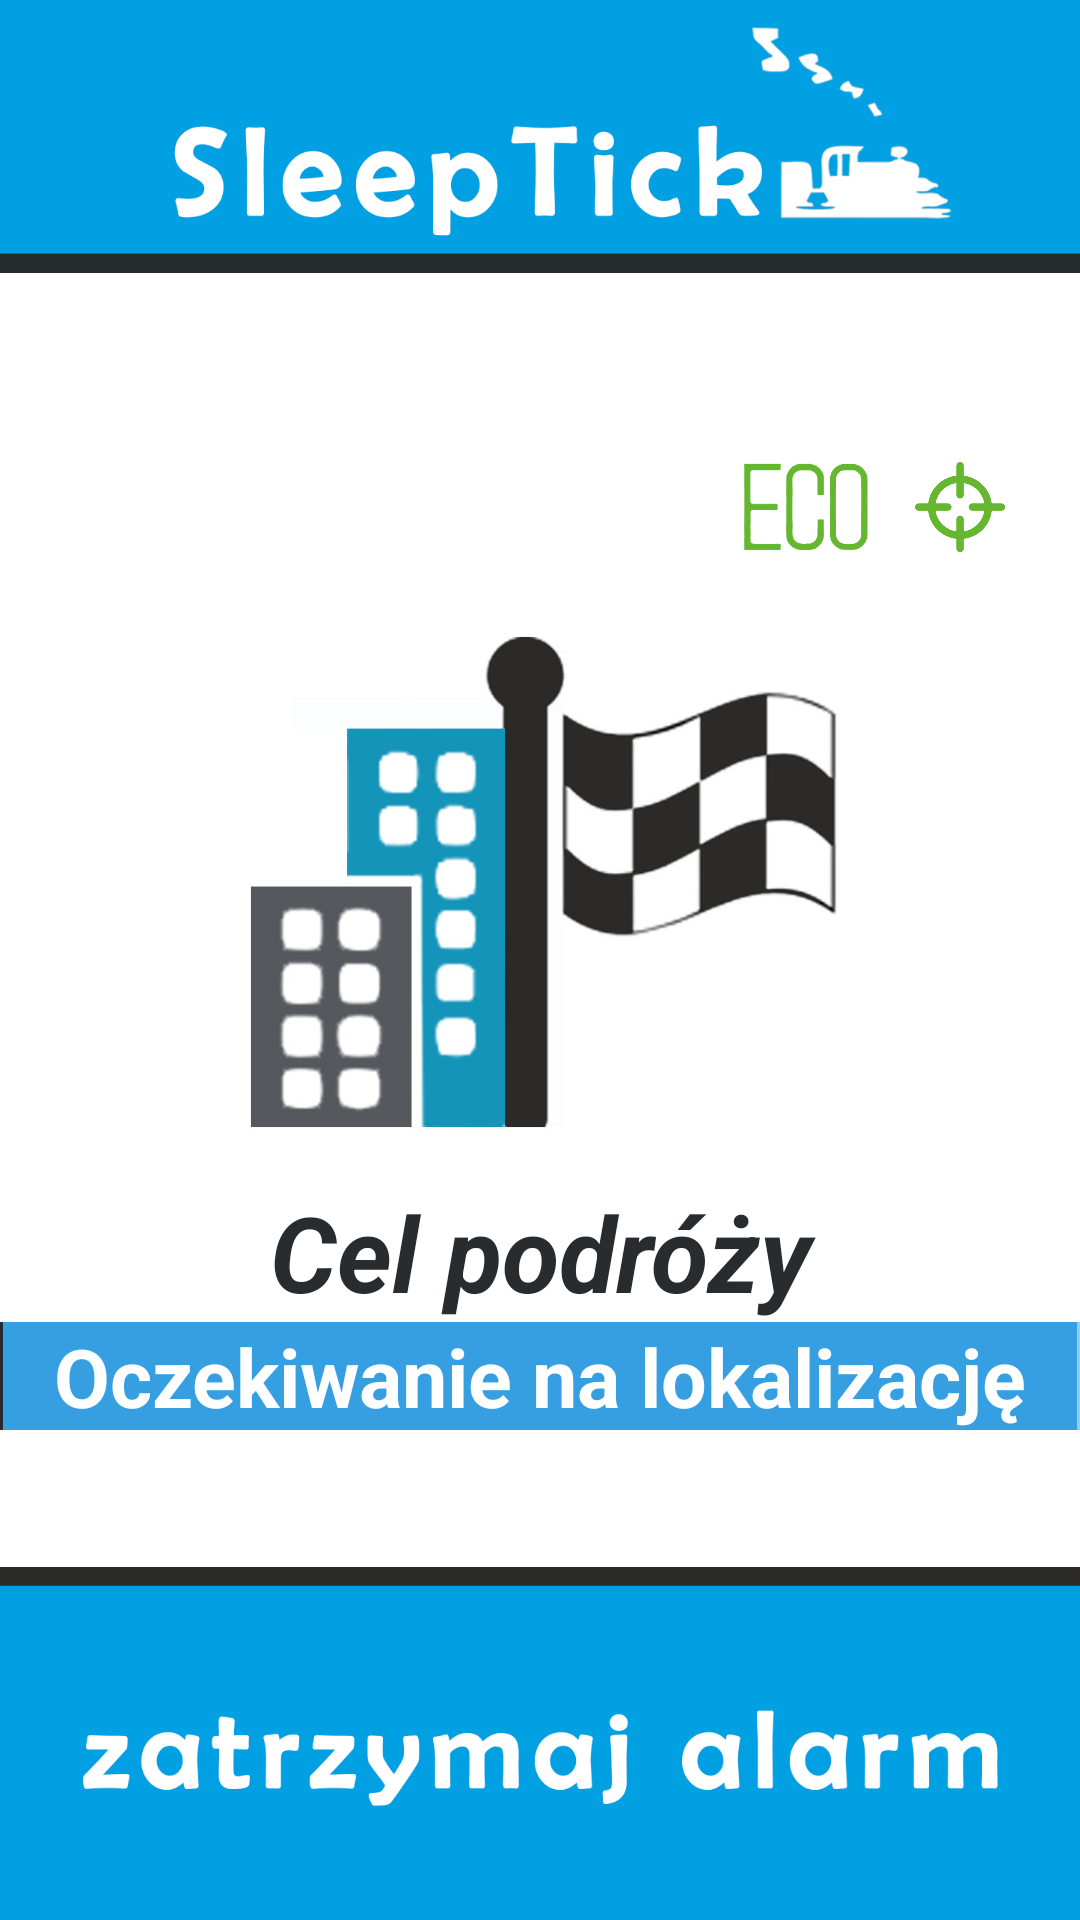

Screen size 1080 x 1920. Icon name, then its box in pixels as [x1,y1,x2,y2]:
celownik: [915,462,1005,552]
